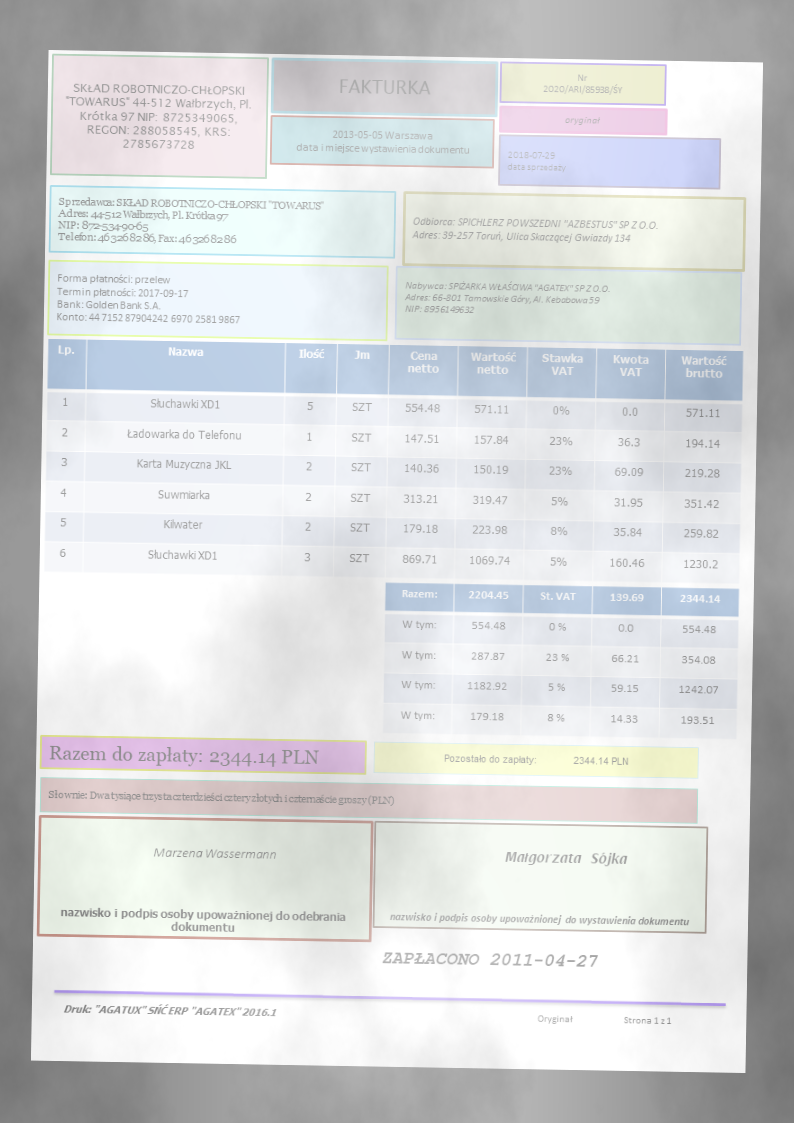Table: (42, 337, 745, 587), (381, 581, 740, 741)
TextBox: (55, 193, 326, 250), (63, 80, 254, 154), (54, 270, 242, 326), (57, 903, 350, 936), (409, 212, 660, 249), (401, 277, 613, 320), (47, 737, 321, 770), (46, 785, 396, 810), (387, 908, 691, 929), (294, 127, 471, 156), (380, 948, 599, 971), (62, 1000, 279, 1019), (440, 748, 631, 769), (534, 1009, 675, 1029), (502, 846, 629, 868), (150, 843, 280, 863), (541, 68, 625, 98), (336, 75, 434, 98), (505, 147, 567, 175), (562, 112, 602, 128)
